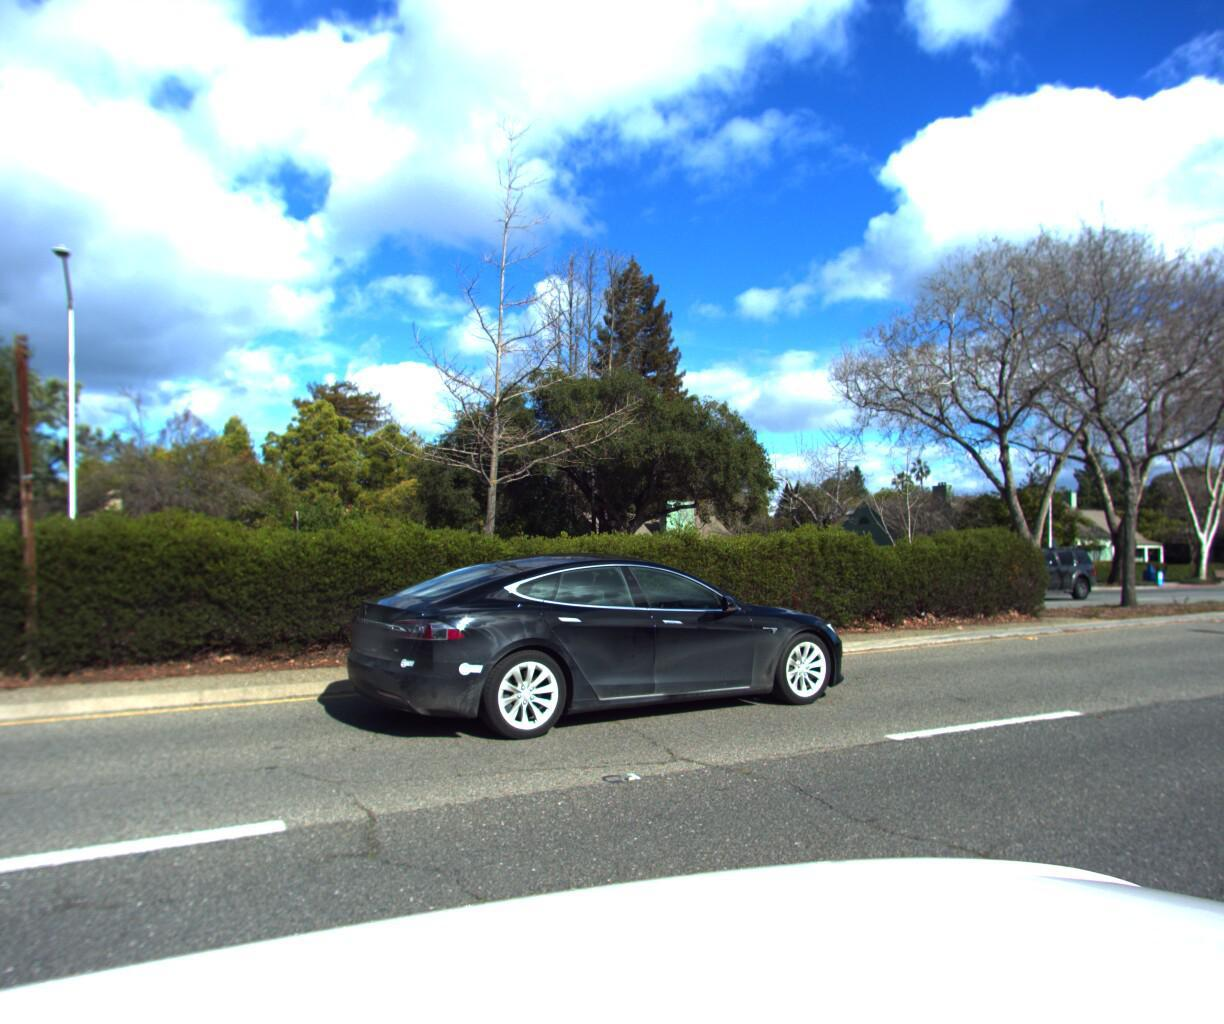car: (311, 534, 874, 762), (992, 543, 1124, 596)
